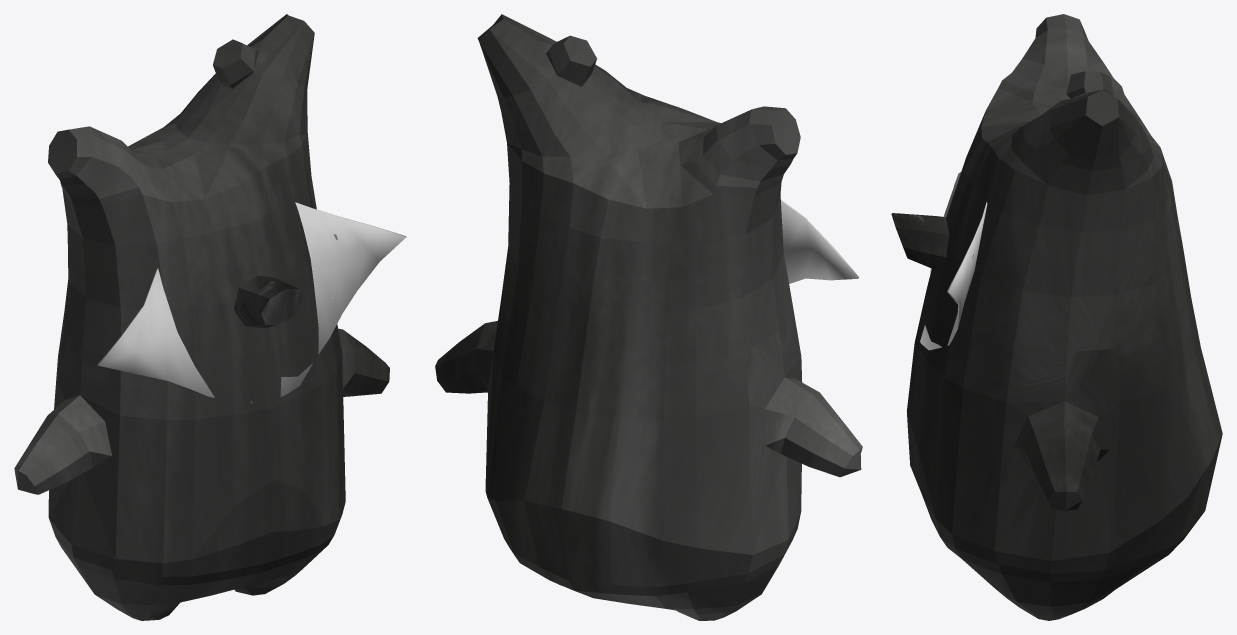
Rendered from frame_0071.obj.
3 views of the same model, side by side, from view 1: azimuth 30°, elevation 25°; view 2: azimuth 150°, elevation 25°; view 3: azimuth 270°, elevation 25° (orthographic). The views are drawn at different scales.
Visible parts, largest first — view 1: korok, leaf, nose; view 2: korok, leaf; view 3: korok, nose, leaf.
Part boxes in pixels (bbox=[...]): korok: bbox=[14, 14, 389, 620]; leaf: bbox=[97, 202, 406, 403]; nose: bbox=[234, 275, 302, 328]; korok: bbox=[435, 14, 862, 620]; leaf: bbox=[781, 200, 858, 283]; korok: bbox=[906, 14, 1222, 620]; nose: bbox=[891, 213, 949, 270]; leaf: bbox=[920, 172, 987, 350].
Size of the model in its own units: 1.68 by 2.27 by 1.22.
